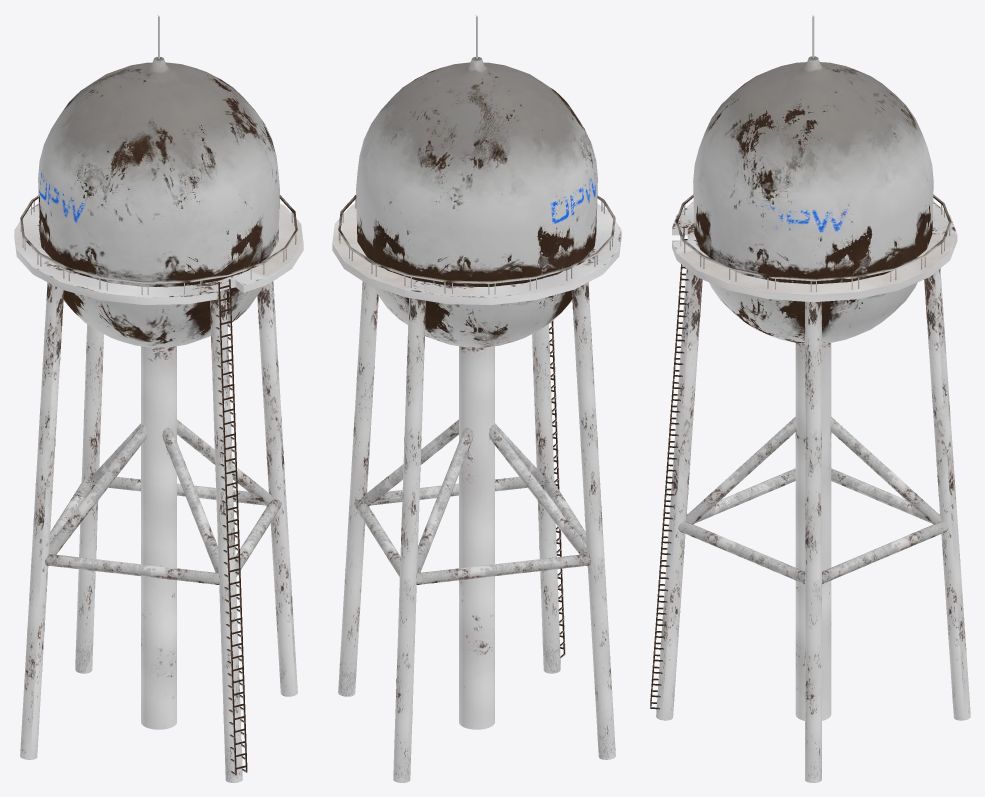
Rendered from torre_agua.gltf.
The picture shows the model from 3 angles, left to right: view 1: azimuth 30°, elevation 25°; view 2: azimuth 150°, elevation 25°; view 3: azimuth 270°, elevation 25°; orthographic projection.
Parts seen in each view (by area): view 1: torre_agua; view 2: torre_agua; view 3: torre_agua.
Boxes of the visible parts, bbox=[...] form: torre_agua: bbox=[14, 14, 303, 782]; torre_agua: bbox=[332, 14, 621, 782]; torre_agua: bbox=[650, 14, 970, 782].
Size of the model in its own units: 8.93 by 22 by 9.09.
Materials: 1 (1 with a texture image).
